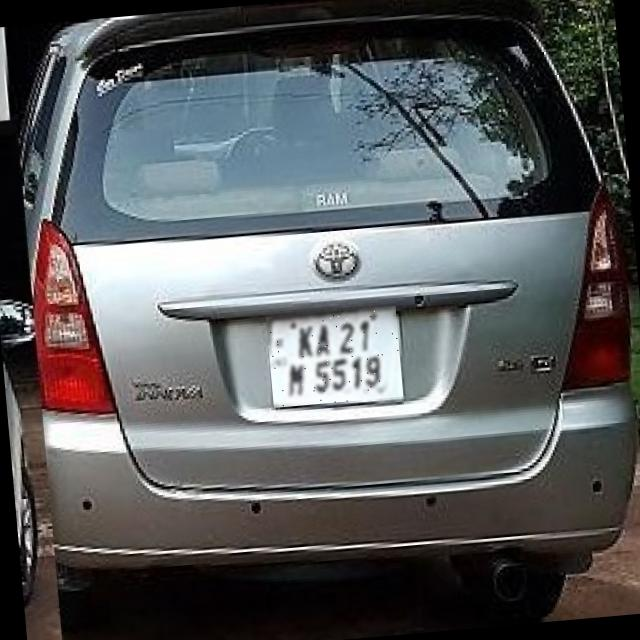Plate: (267, 307, 404, 409)
